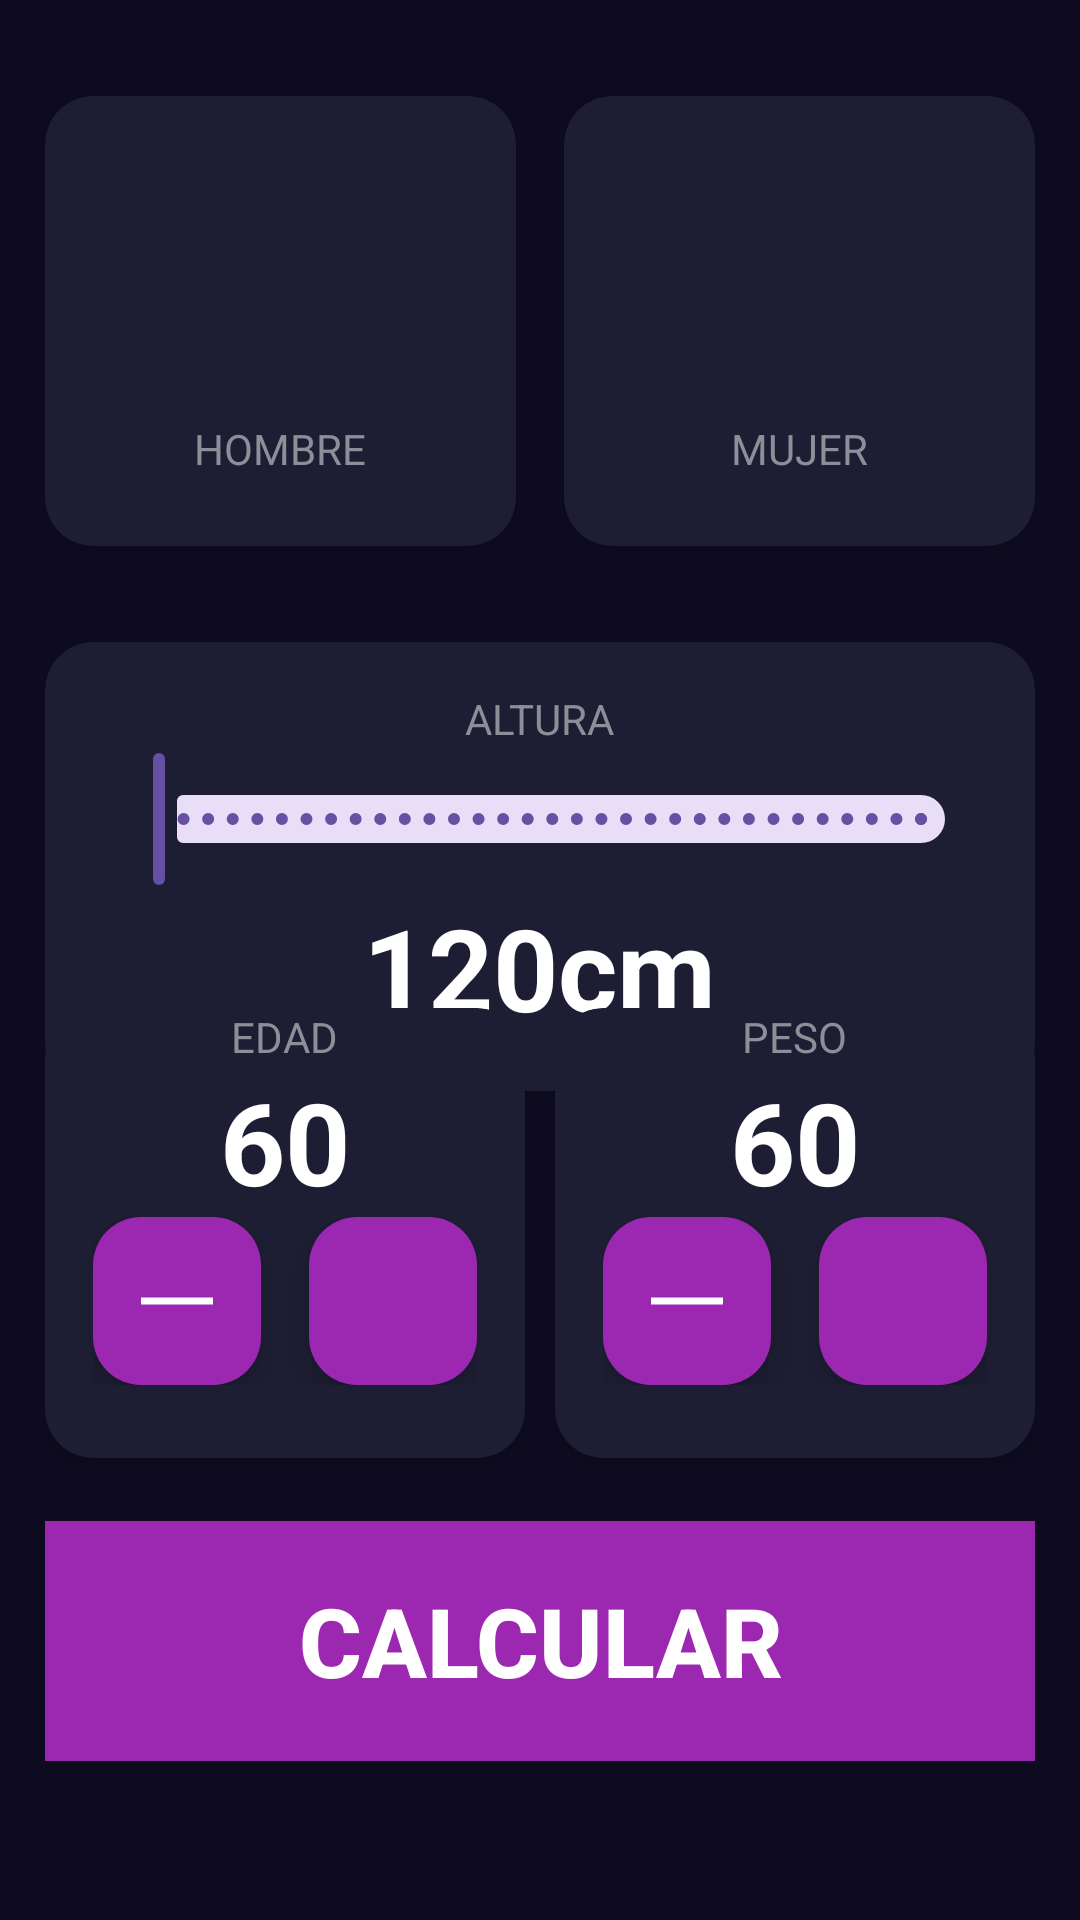

Locate icon controls on the screen. Image size 1080px x 1920px, boxes as (x1, y1, x2, y2).
remove: (93, 1217, 261, 1385), (603, 1217, 771, 1385)
